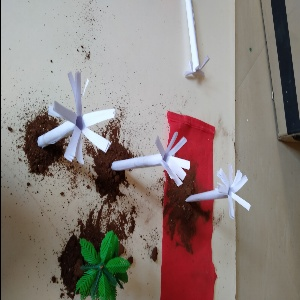plant: (66, 229, 142, 300)
weed: (31, 64, 109, 163), (188, 164, 266, 222), (113, 130, 186, 191), (177, 7, 215, 80)
